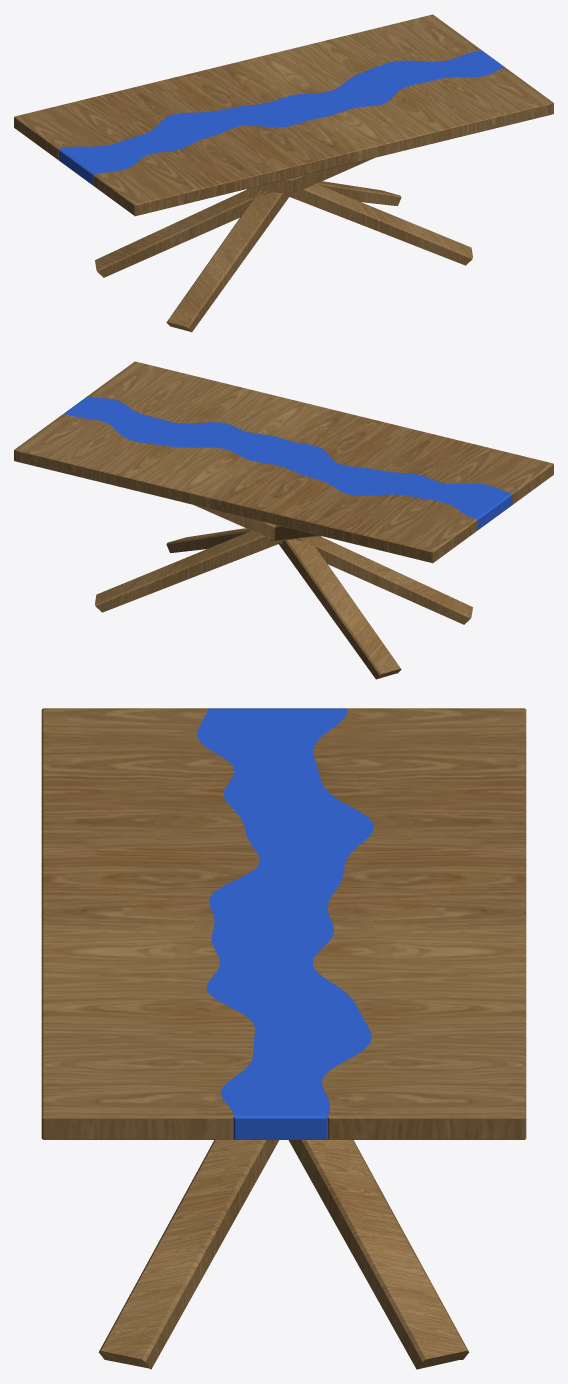
Rendered from rectangular-oak-epoxy-sapphire.glb.
The picture shows the model from 3 angles, top to bottom: view 1: azimuth 30°, elevation 25°; view 2: azimuth 150°, elevation 25°; view 3: azimuth 270°, elevation 25°; orthographic projection. The views are drawn at different scales.
Parts seen in each view (by area): view 1: Wood_Rectangular_EpoxyFar, Wood_Rectangular_EpoxyNear, Base_target, Resin_Rectangular; view 2: Wood_Rectangular_EpoxyNear, Wood_Rectangular_EpoxyFar, Base_target, Resin_Rectangular; view 3: Wood_Rectangular_EpoxyNear, Wood_Rectangular_EpoxyFar, Resin_Rectangular, Base_target.
Boxes of the visible parts, x1,y1,x2,y2 form: Wood_Rectangular_EpoxyFar: (93, 67, 553, 216); Wood_Rectangular_EpoxyNear: (14, 14, 481, 159); Base_target: (95, 158, 472, 332); Resin_Rectangular: (58, 50, 504, 185); Wood_Rectangular_EpoxyNear: (14, 413, 477, 563); Wood_Rectangular_EpoxyFar: (88, 361, 553, 504); Base_target: (95, 505, 472, 679); Resin_Rectangular: (64, 396, 512, 529); Wood_Rectangular_EpoxyNear: (312, 708, 526, 1139); Wood_Rectangular_EpoxyFar: (41, 708, 259, 1139); Resin_Rectangular: (197, 708, 374, 1139); Base_target: (98, 1140, 469, 1369).
Bounding box in the file's own units: 2.13 × 0.762 × 1.07.
Materials: 2 (1 with a texture image).
